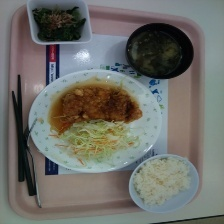rice: (131, 156, 193, 208)
